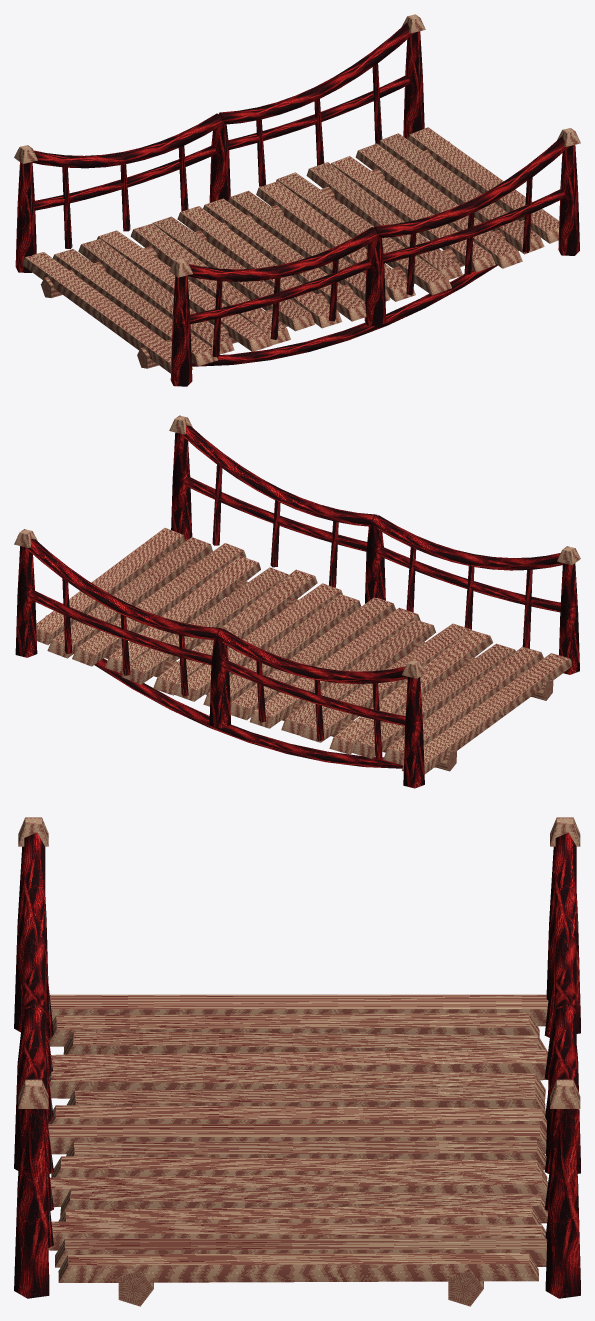
File: Bridge_PlankSpan_East.glb
3 renders of one model, top to bottom at view 1: azimuth 30°, elevation 25°; view 2: azimuth 150°, elevation 25°; view 3: azimuth 270°, elevation 25°, orthographic. The views are drawn at different scales.
Visible parts, largest first — view 1: PlankBridge_Deck, PlankBridge_TendonCables; view 2: PlankBridge_Deck, PlankBridge_TendonCables; view 3: PlankBridge_Deck, PlankBridge_TendonCables.
Part boxes in pixels (x1,y1,x2,y2): PlankBridge_Deck: (14,14,580,373); PlankBridge_TendonCables: (15,23,579,386); PlankBridge_Deck: (14,415,580,774); PlankBridge_TendonCables: (15,425,579,788); PlankBridge_Deck: (18,817,580,1306); PlankBridge_TendonCables: (14,832,580,1298).
Bounding box in the file's own units: 9.04 × 3.95 × 6.36.
2 materials, 2 textured.
